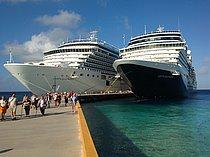Ship: (109, 21, 209, 110)
